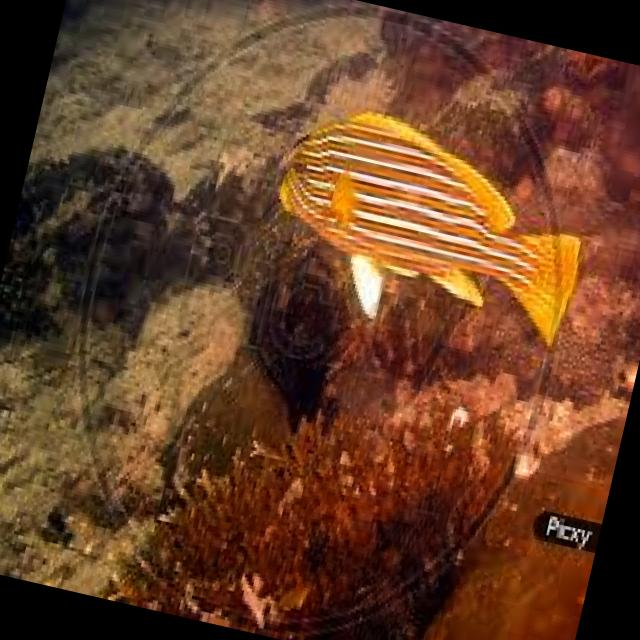RibbonedSweetlips: (252, 88, 604, 352)
